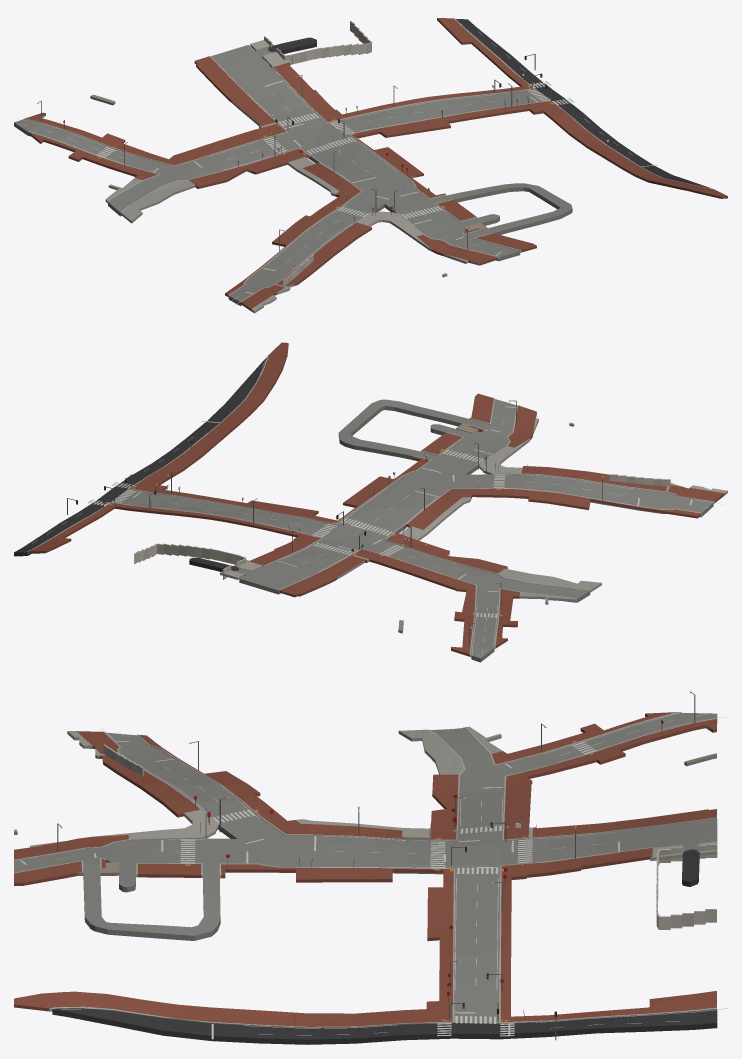
The picture shows the model from 3 angles, top to bottom: view 1: azimuth 30°, elevation 25°; view 2: azimuth 150°, elevation 25°; view 3: azimuth 270°, elevation 25°; orthographic projection. The views are drawn at different scales.
Size of the model in its own units: 152 by 16.11 by 148.
